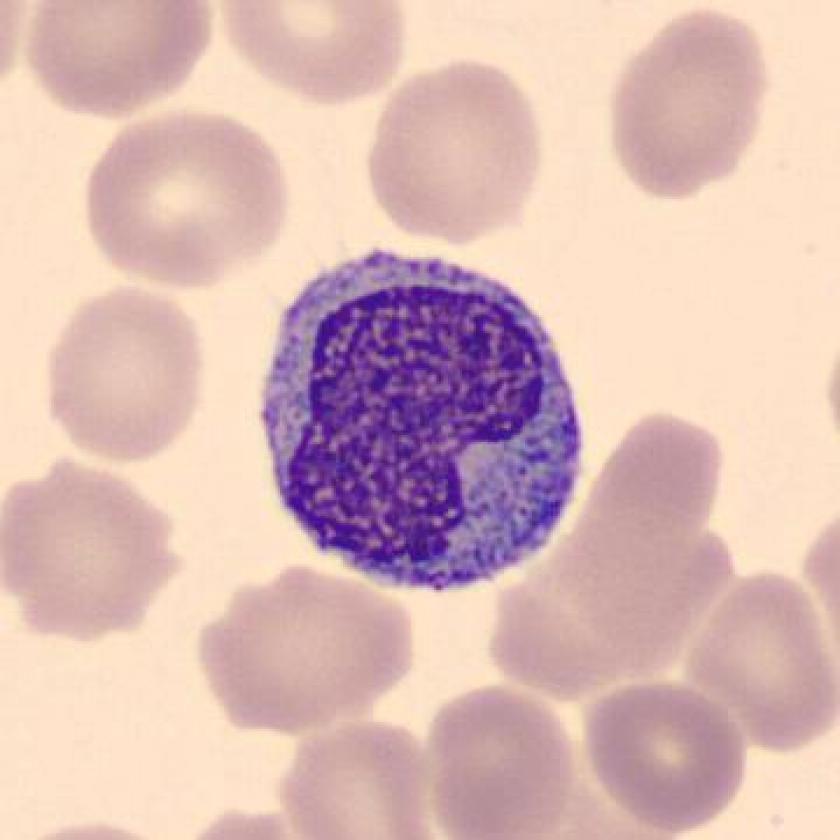monocyte: (239, 230, 605, 614)
